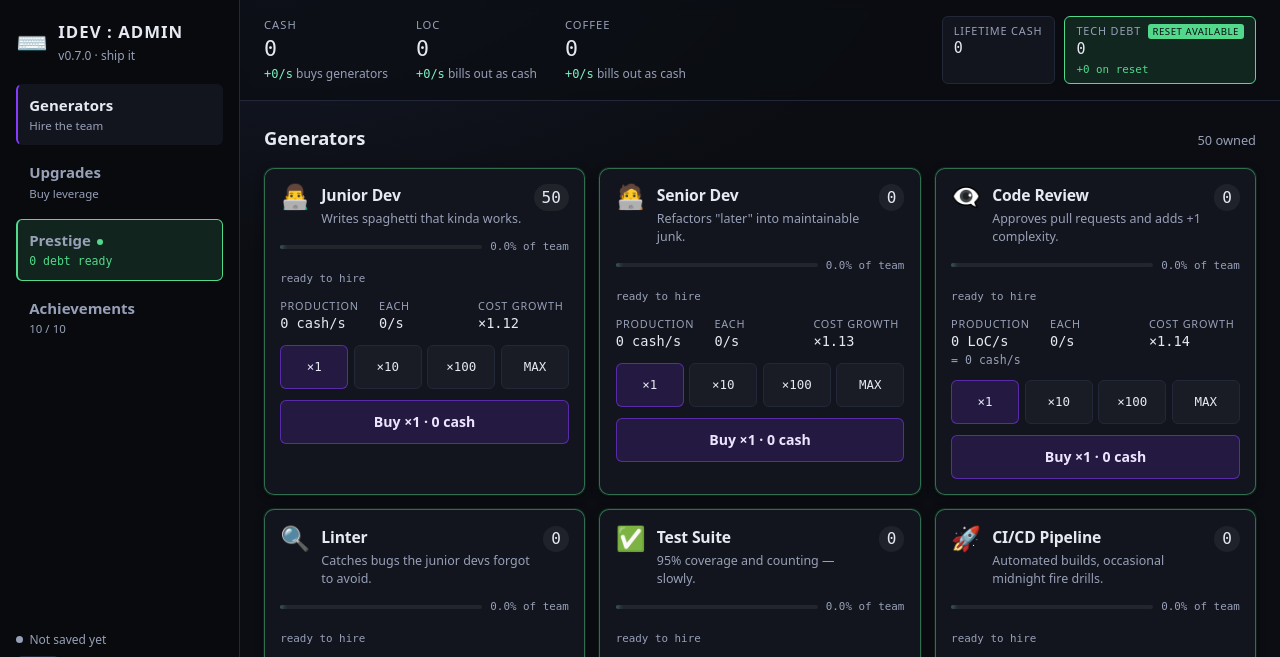
Scenario: the settings surface › does not disturb the Prestige confirmation by default
The image size is (1280, 657).
Click the button "Prestige 0 debt ready": (120, 250) [16,219,223,280]
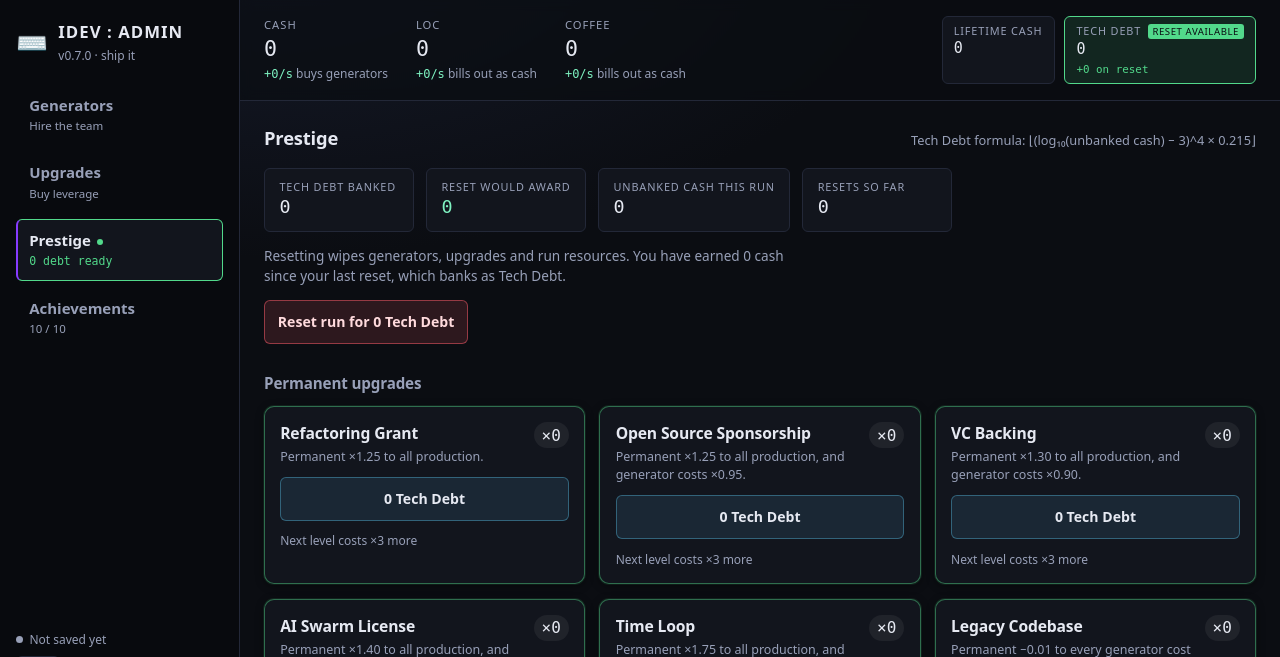
Click the button "Reset run for 0 Tech Debt": (366, 322) [264,300,468,344]
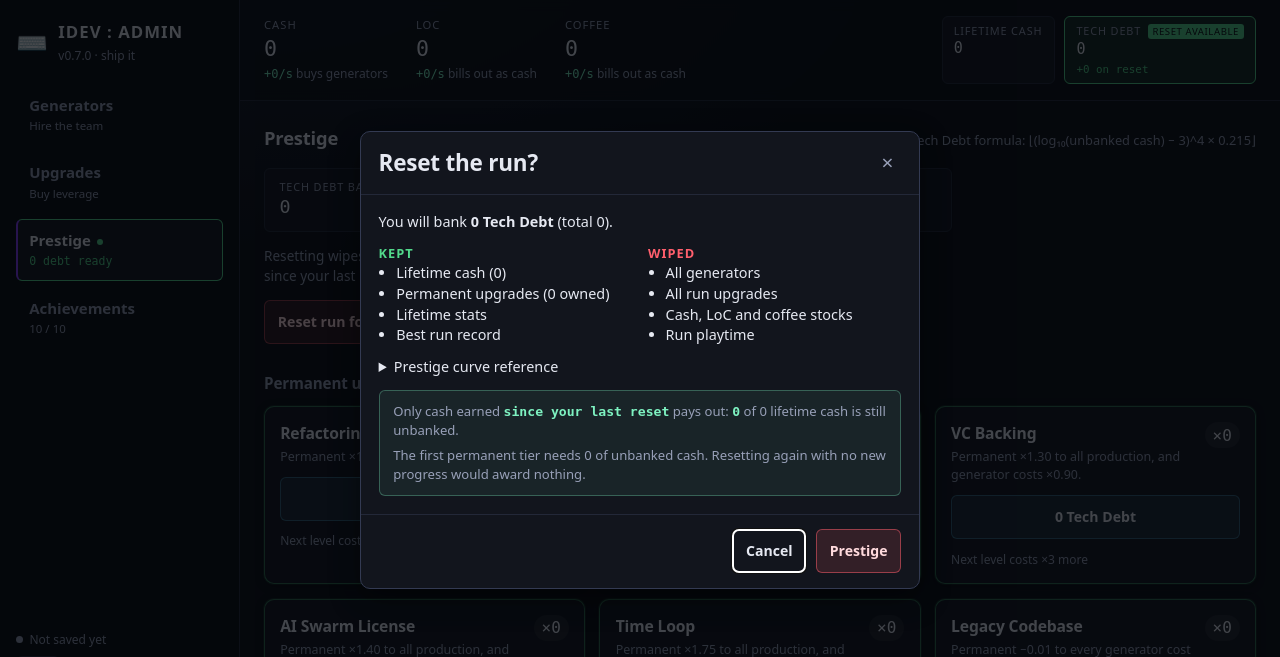
Expected: the dialog is shown, [360,131,920,589]
